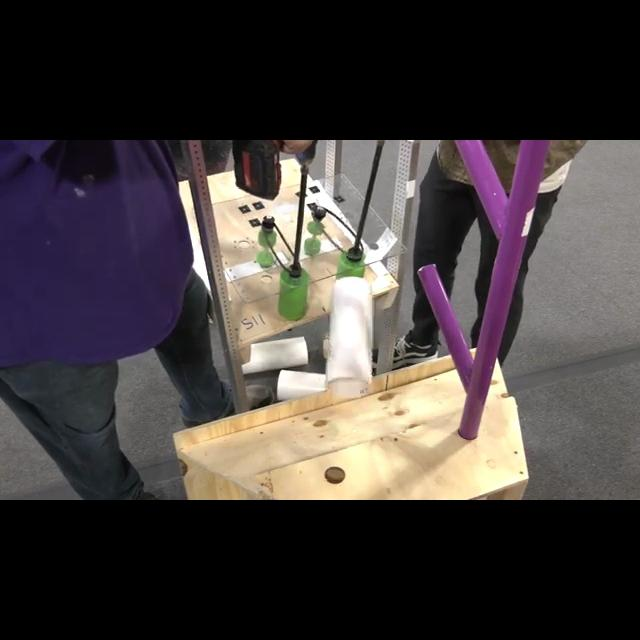CORAL: (326, 277, 369, 391), (241, 338, 309, 374), (278, 370, 326, 400)
